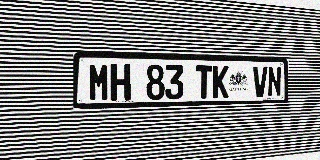3: (165, 65, 183, 99)
8: (146, 64, 165, 100)
H: (110, 64, 131, 101)
K: (213, 66, 229, 98)
M: (88, 63, 110, 101)
N: (267, 67, 281, 97)
T: (195, 65, 212, 99)
V: (253, 66, 267, 97)
